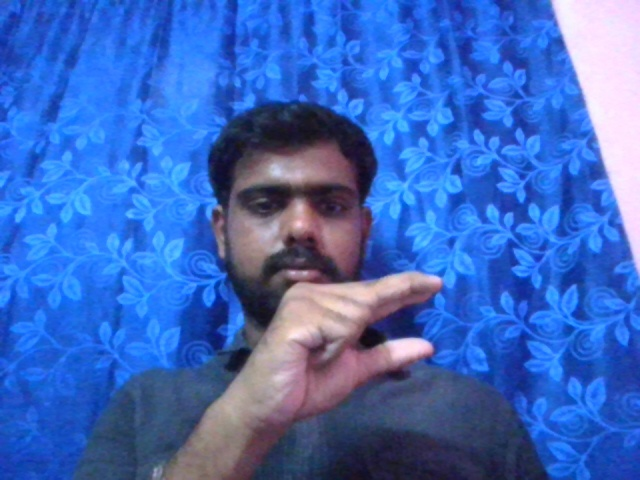No: (242, 269, 451, 427)
